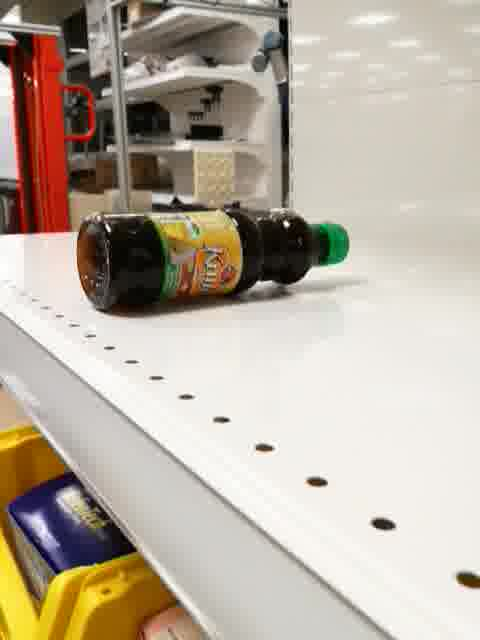cookingoil: (72, 204, 357, 319)
